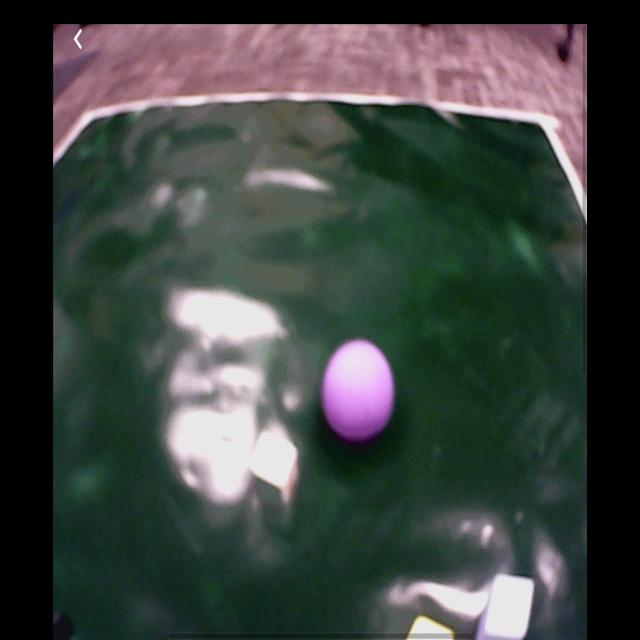ball: (320, 338, 396, 440)
